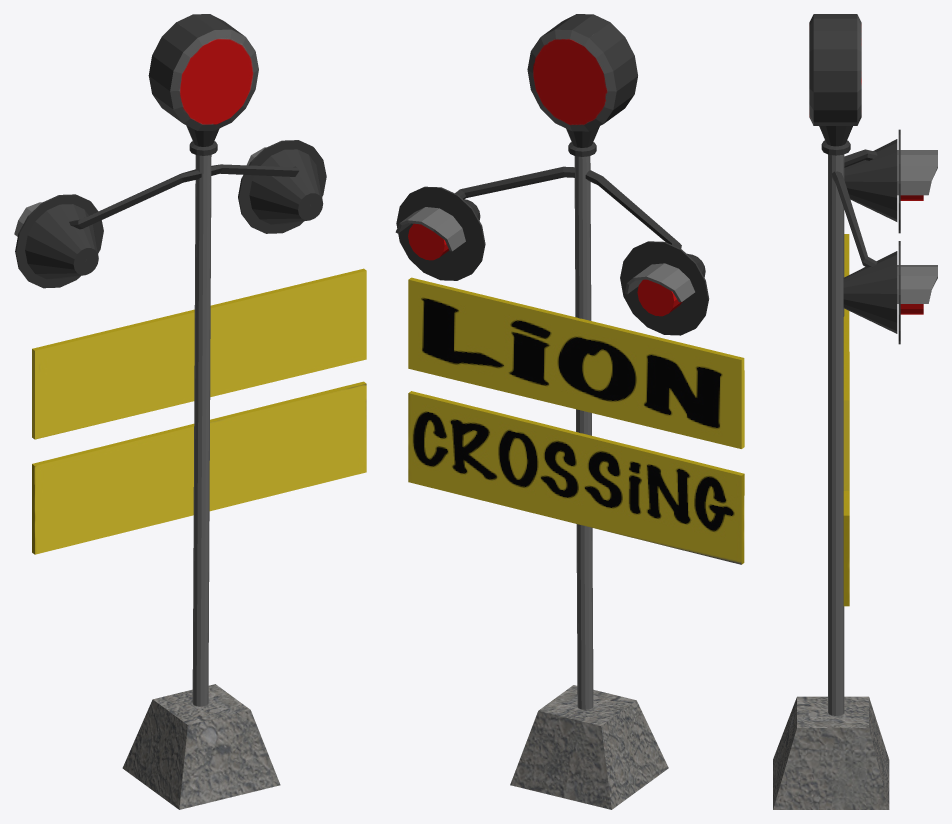
File: sign.fbx
3 renders of one model, left to right at view 1: azimuth 30°, elevation 25°; view 2: azimuth 150°, elevation 25°; view 3: azimuth 270°, elevation 25°, orthographic. The views are drawn at different scales.
Visible parts, largest first — view 1: polySurface30; view 2: polySurface30; view 3: polySurface30.
Part boxes in pixels (<box>): polySurface30: <box>14,14,366,809</box>; polySurface30: <box>395,14,744,809</box>; polySurface30: <box>773,14,937,809</box>.
Size of the model in its own units: 96.29 by 208 by 40.55.
Materials: 1 (1 with a texture image).
